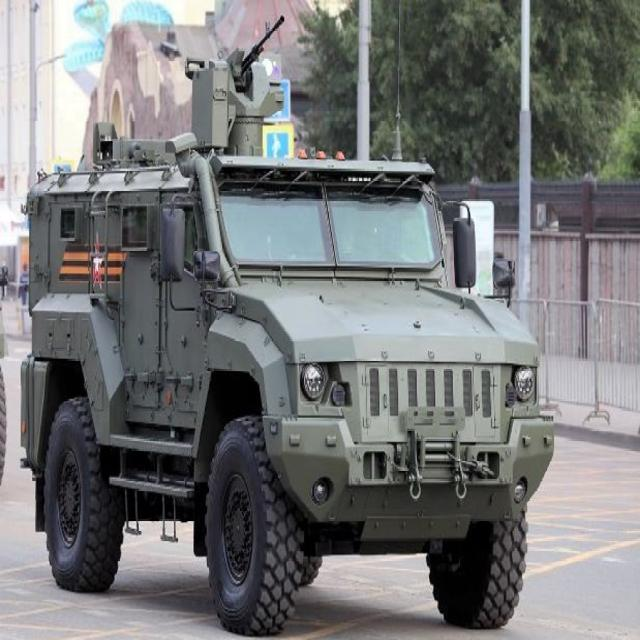CAR: (19, 38, 554, 638)
